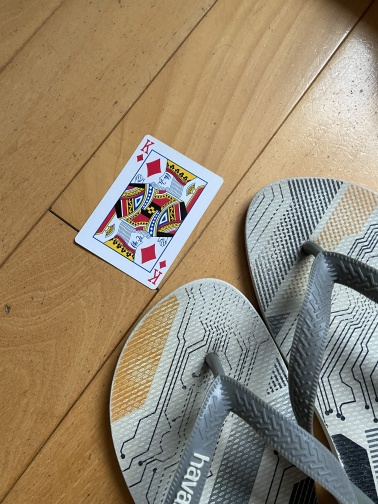king: (72, 133, 225, 291)
